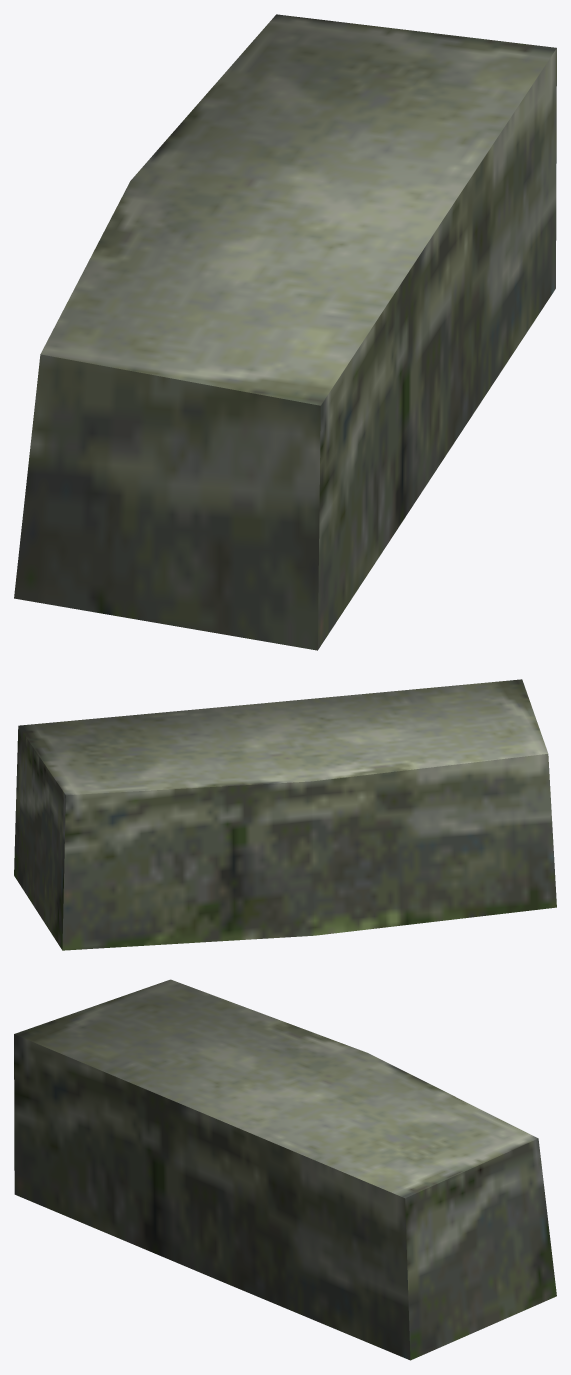
Rendered from xsz_cuishi_5.FBX.
3 renders of one model, top to bottom at view 1: azimuth 30°, elevation 25°; view 2: azimuth 150°, elevation 25°; view 3: azimuth 270°, elevation 25°, orthographic. The views are drawn at different scales.
Parts seen in each view (by area): view 1: xsz_cuishi_5; view 2: xsz_cuishi_5; view 3: xsz_cuishi_5.
Part boxes in pixels (left/top/right/bottom): xsz_cuishi_5: left=14, top=14, right=556, bottom=650; xsz_cuishi_5: left=14, top=679, right=556, bottom=950; xsz_cuishi_5: left=14, top=979, right=556, bottom=1360.
Bounding box in the file's own units: 5.51 × 5.48 × 1.9.
